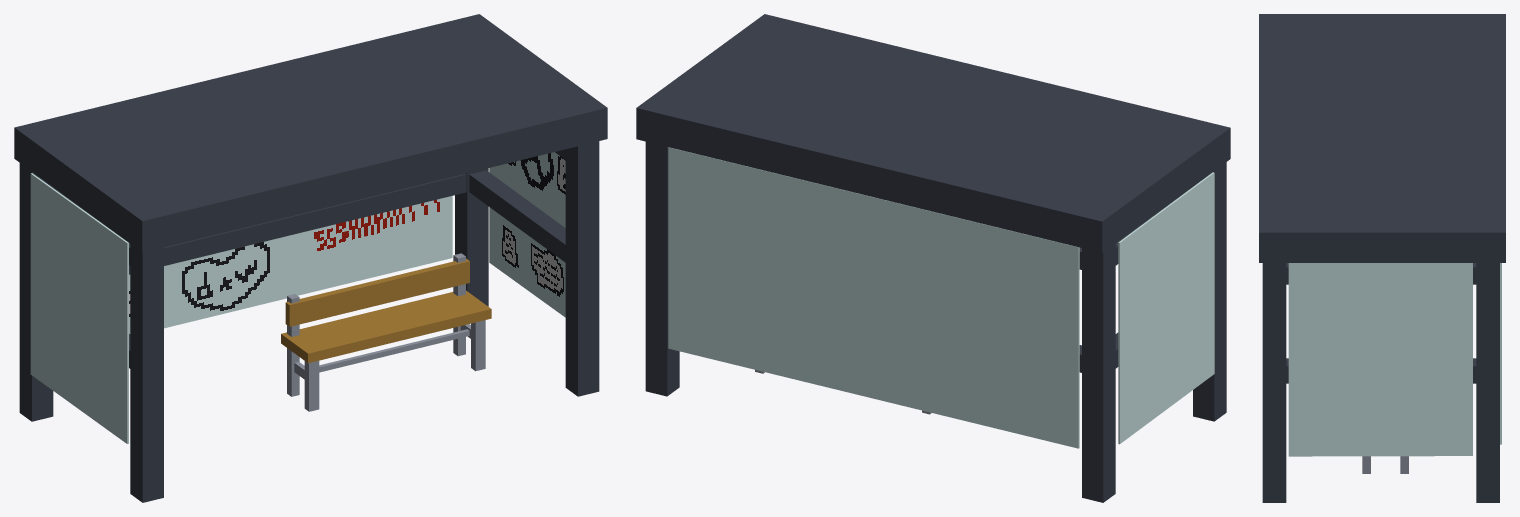
File: bus_station_fix.glb
The picture shows the model from 3 angles, left to right: view 1: azimuth 30°, elevation 25°; view 2: azimuth 150°, elevation 25°; view 3: azimuth 270°, elevation 25°; orthographic projection. The views are drawn at different scales.
Parts seen in each view (by area): view 1: mesh (×3); view 2: mesh (×2); view 3: mesh (×3).
Part boxes in pixels (left/top/right/bottom): mesh (×3): left=14, top=14, right=607, bottom=502; mesh (×2): left=636, top=14, right=1230, bottom=502; mesh (×3): left=1259, top=14, right=1505, bottom=502.
Size of the model in its own units: 3.41 by 1.98 by 1.62.
Materials: 1 (1 with a texture image).
